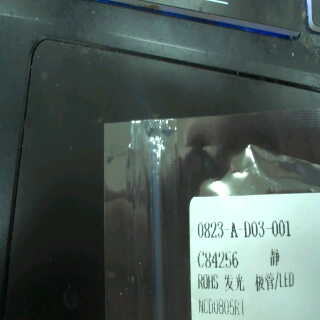LED: (220, 269, 301, 296)
